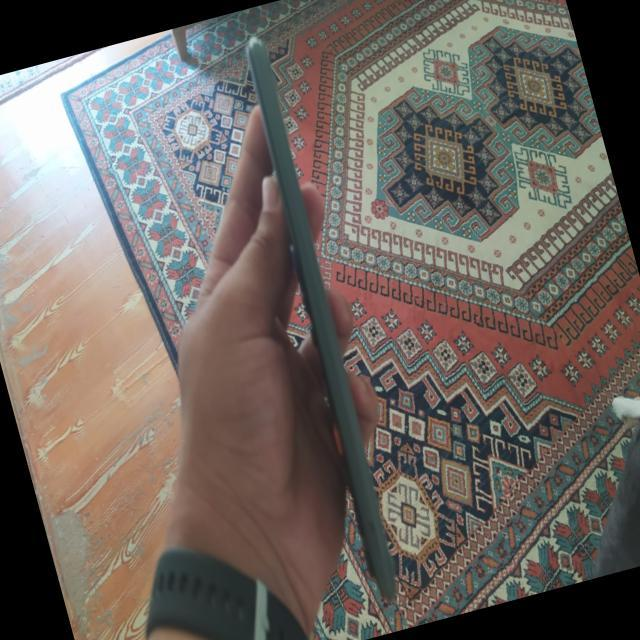Calculator: (237, 31, 414, 604)
